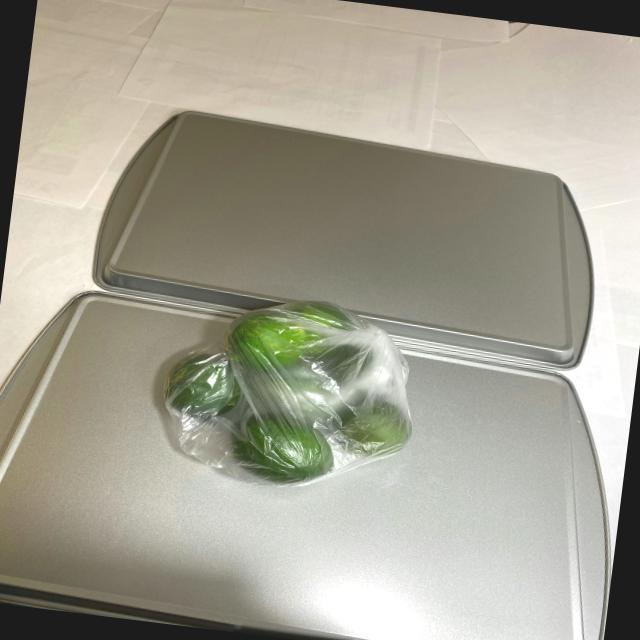lemon: (150, 282, 422, 499)
